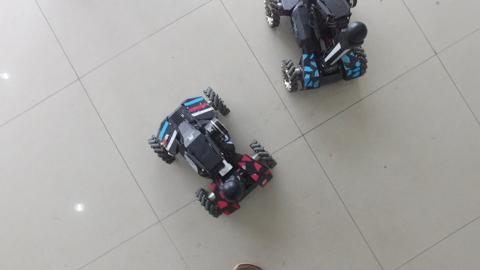chariot: (148, 84, 283, 230), (262, 1, 373, 97)
